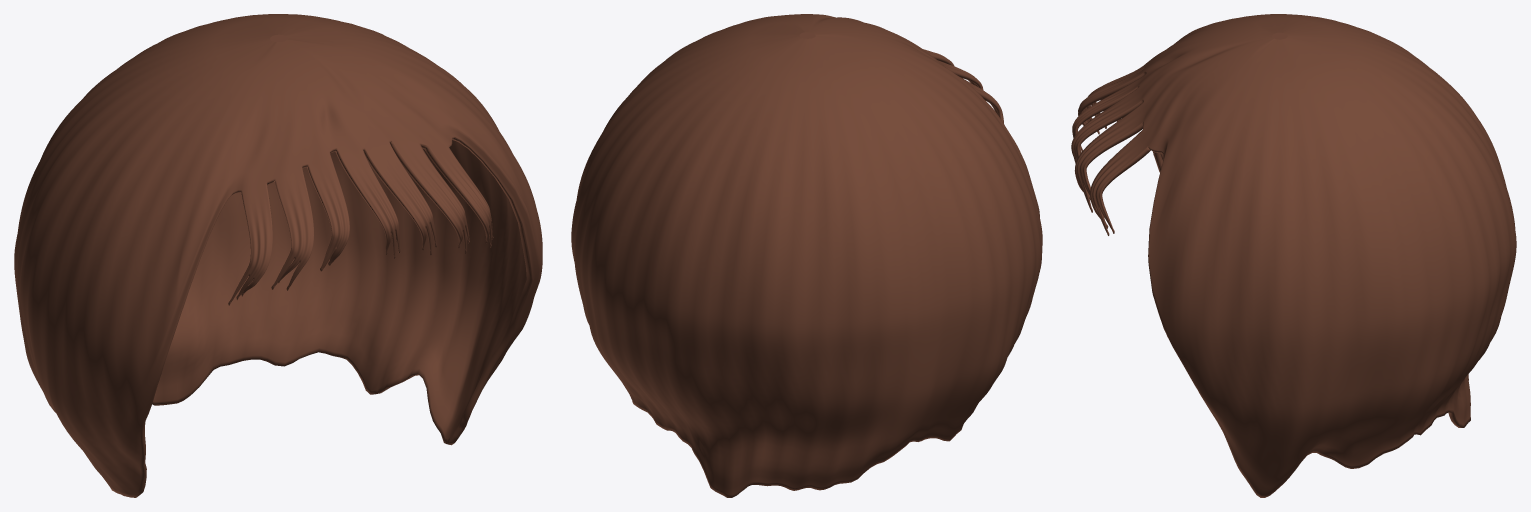
The model's file is side-sweep-pashmina.glb.
3 views of the same model, side by side, from view 1: azimuth 30°, elevation 25°; view 2: azimuth 150°, elevation 25°; view 3: azimuth 270°, elevation 25° (orthographic). The views are drawn at different scales.
Parts seen in each view (by area): view 1: Wispy bangs / continuous crown; view 2: Wispy bangs / continuous crown; view 3: Wispy bangs / continuous crown.
Part boxes in pixels (x1,y1,x2,y2): Wispy bangs / continuous crown: [14, 14, 542, 497]; Wispy bangs / continuous crown: [571, 14, 1042, 497]; Wispy bangs / continuous crown: [1071, 14, 1516, 497].
Bounding box in the file's own units: 0.8384 × 0.7657 × 0.7885.
